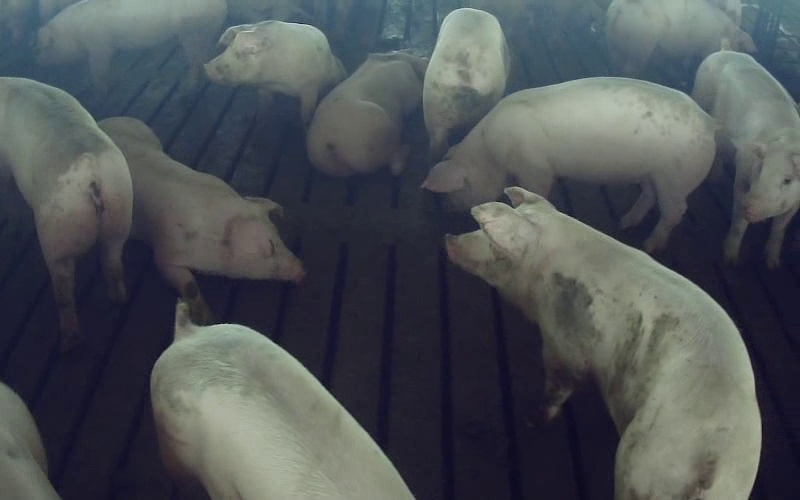pig: (449, 187, 760, 499), (151, 302, 413, 499), (423, 77, 716, 250), (99, 117, 303, 322), (692, 50, 799, 267), (37, 0, 226, 94), (307, 52, 426, 175), (205, 20, 345, 123), (423, 8, 509, 154), (606, 0, 755, 74)
